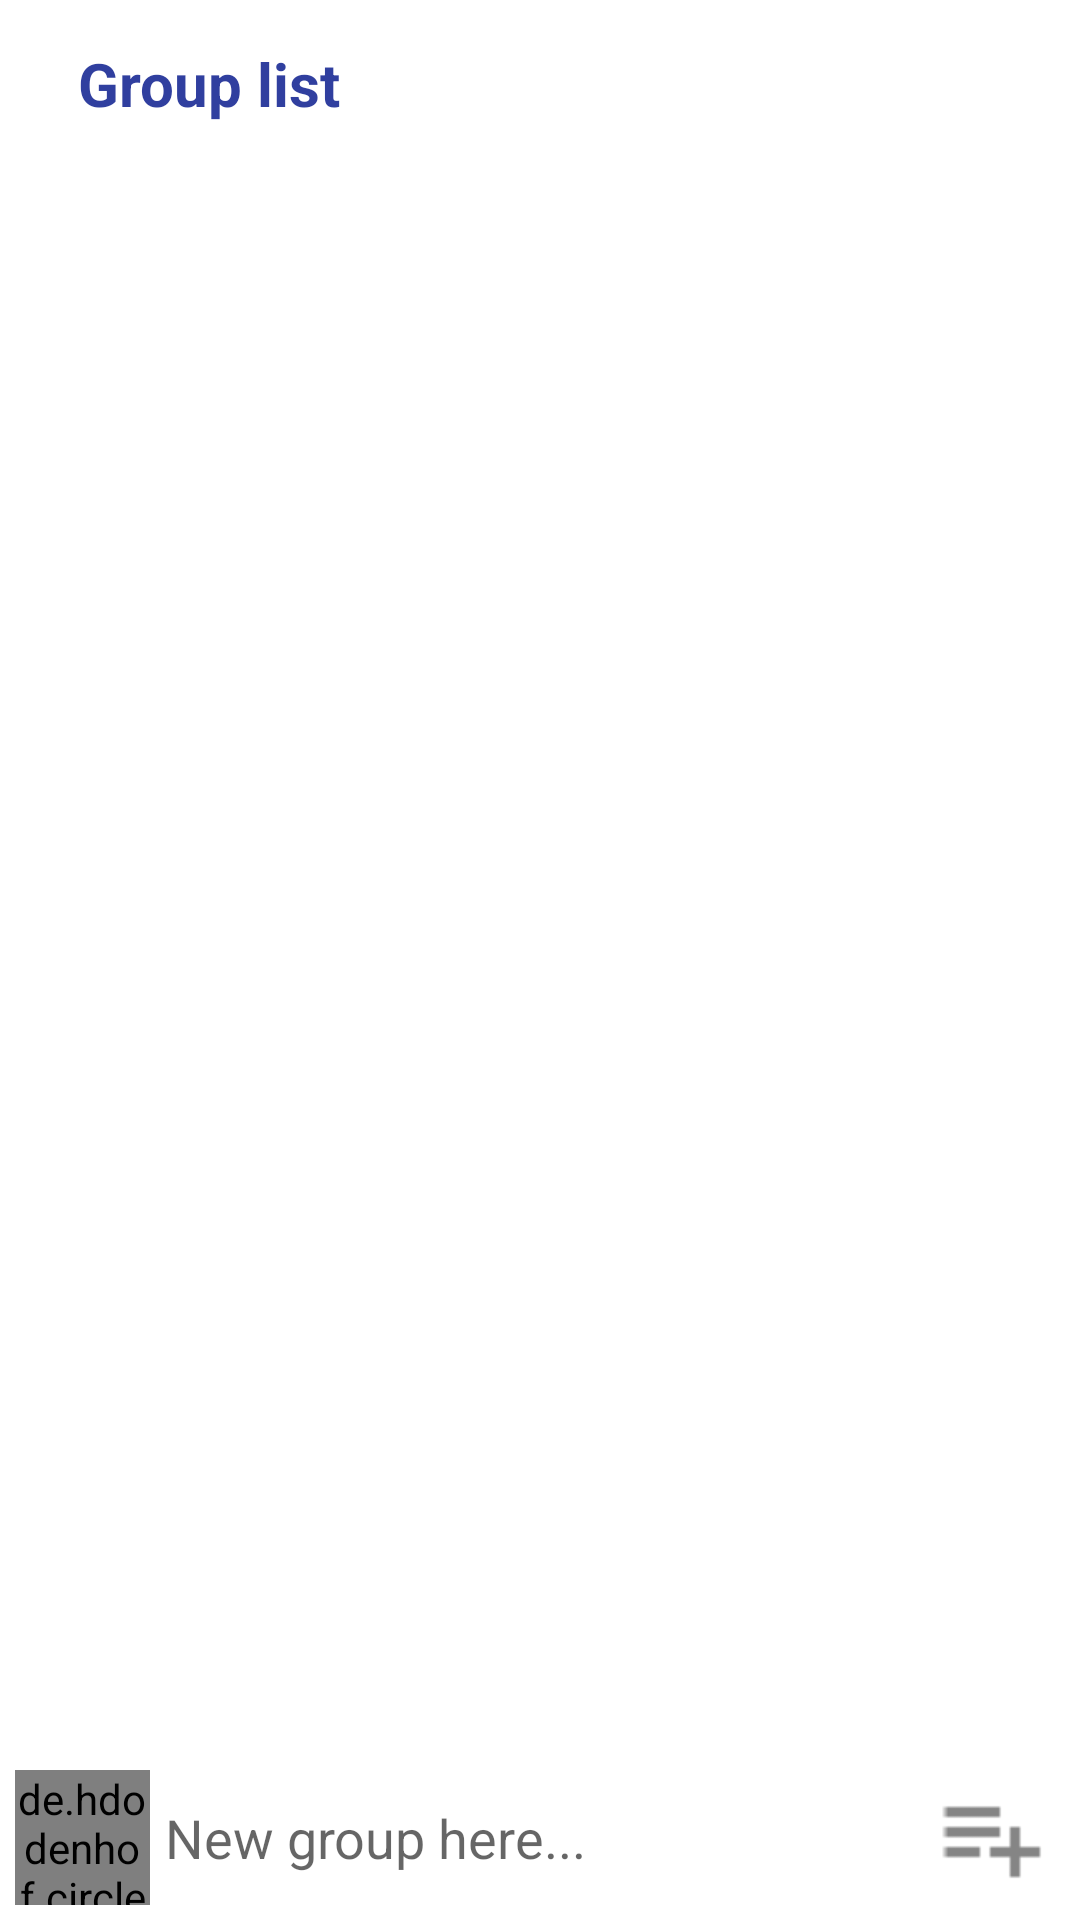

Icons on this 1080*1920 Android screen, each with its box as bbox(x1, y1, x2, y2):
list add: bbox(943, 1806, 1041, 1878)
